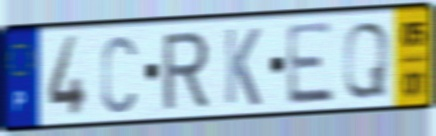4: (45, 32, 90, 120)
C: (99, 32, 138, 117)
E: (284, 19, 338, 108)
K: (222, 25, 263, 109)
Q: (341, 18, 392, 101)
R: (160, 28, 211, 113)
